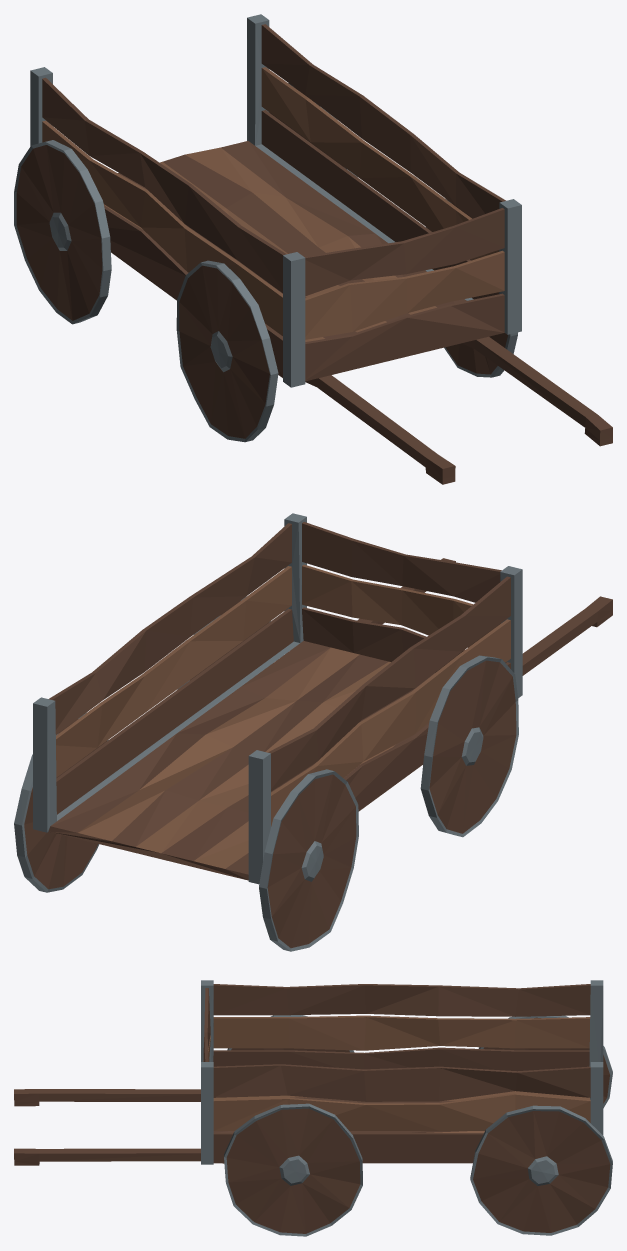
The model's file is BigCart.gltf.
3 renders of one model, top to bottom at view 1: azimuth 30°, elevation 25°; view 2: azimuth 150°, elevation 25°; view 3: azimuth 270°, elevation 25°, orthographic. The views are drawn at different scales.
Visible parts, largest first — view 1: big cart, big cart.004, big cart.001, big cart.002; view 2: big cart, big cart.001, big cart.004, big cart.003; view 3: big cart, big cart.002, big cart.003, big cart.001, big cart.004.
Boxes of the visible parts, x1,y1,x2,y2 form: big cart: (30,14,612,484); big cart.004: (176,260,278,442); big cart.001: (14,140,111,324); big cart.002: (426,198,517,377); big cart: (33,513,612,884); big cart.001: (259,769,358,951); big cart.004: (420,655,518,837); big cart.003: (14,712,108,892); big cart: (14,980,603,1165); big cart.002: (224,1103,362,1236); big cart.003: (470,1105,612,1235); big cart.001: (478,1015,612,1108); big cart.004: (227,1015,353,1052).
Bounding box in the file's own units: 0.9222 × 0.7298 × 2.39.
Materials: 3 (3 with a texture image).
